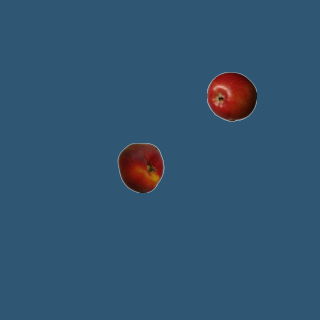Apple Braeburn: (206, 71, 256, 121)
Nectarine Flat: (115, 142, 165, 192)
